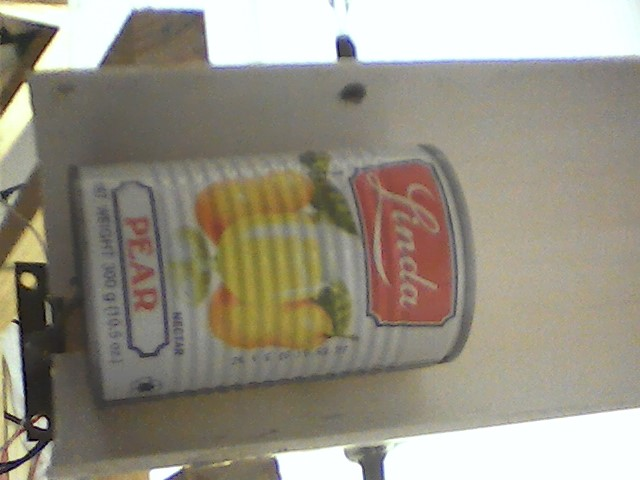lata: (59, 133, 488, 415)
